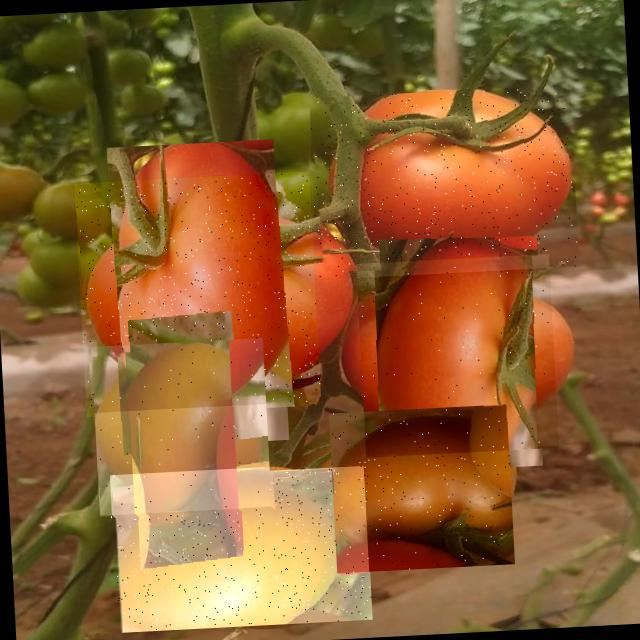Ripe Tomato: (75, 172, 322, 418), (308, 85, 580, 280), (110, 466, 372, 633), (356, 254, 559, 458), (91, 338, 272, 520), (329, 405, 515, 574)
